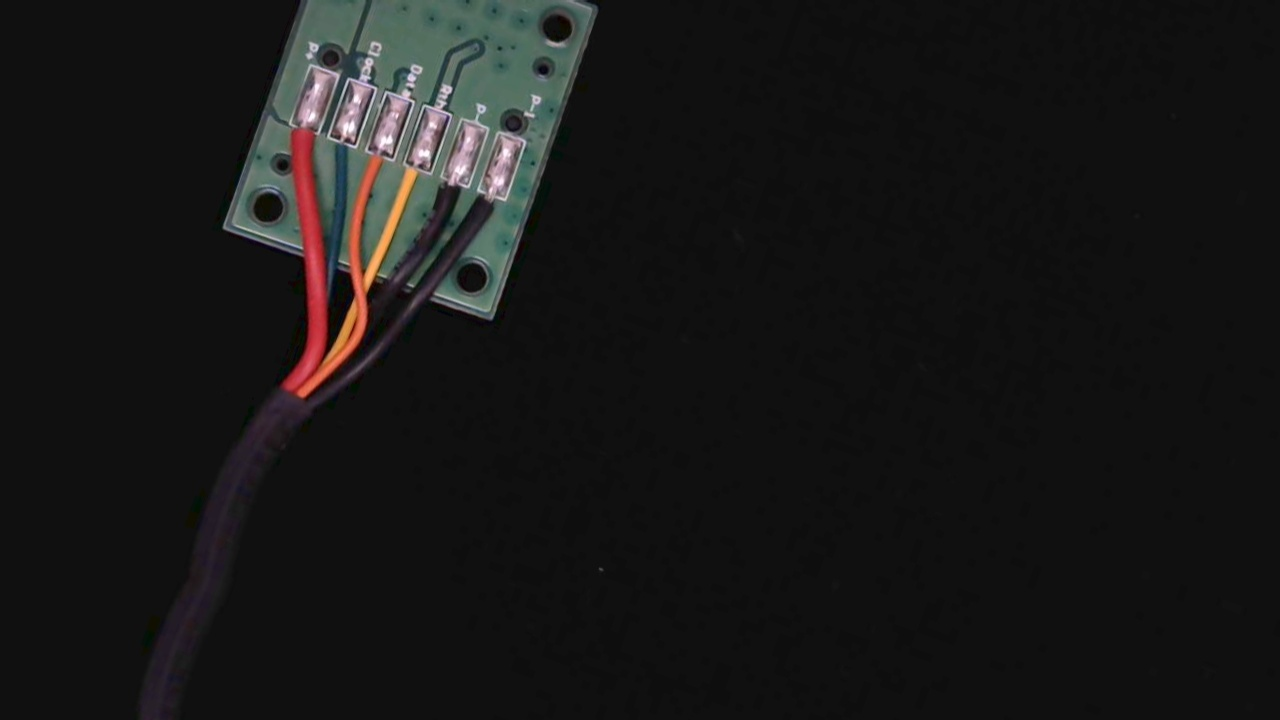Black: (421, 162, 470, 232)
Black1: (456, 177, 510, 251)
Green: (312, 122, 363, 187)
Orange: (348, 136, 398, 201)
Red: (270, 111, 321, 180)
Yellow: (384, 146, 438, 219)
